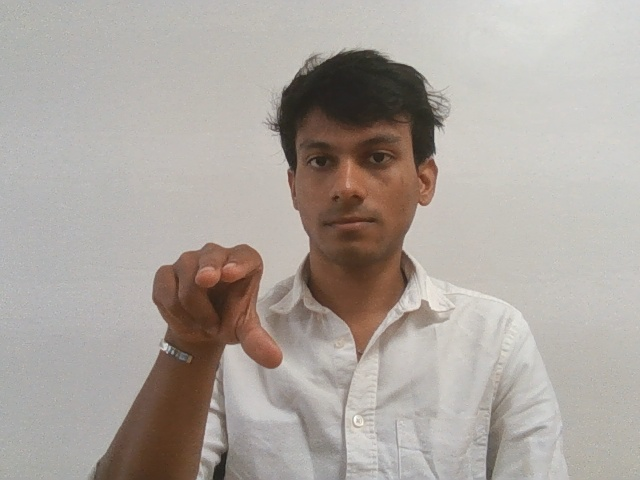No: (139, 225, 289, 379)
